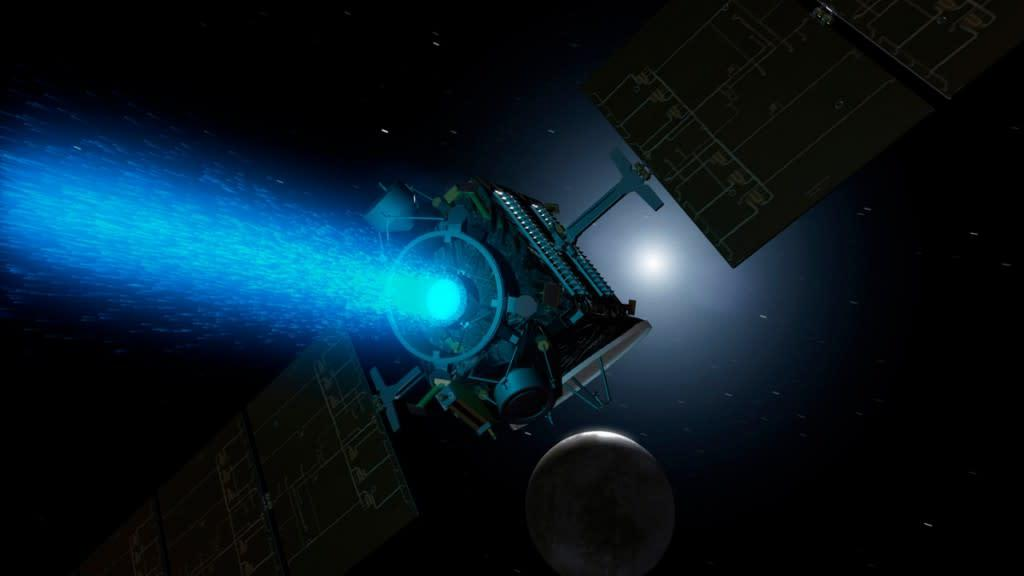antenna: (504, 315, 657, 434)
body: (357, 170, 642, 442)
solar: (577, 0, 1024, 272), (61, 310, 424, 576)
